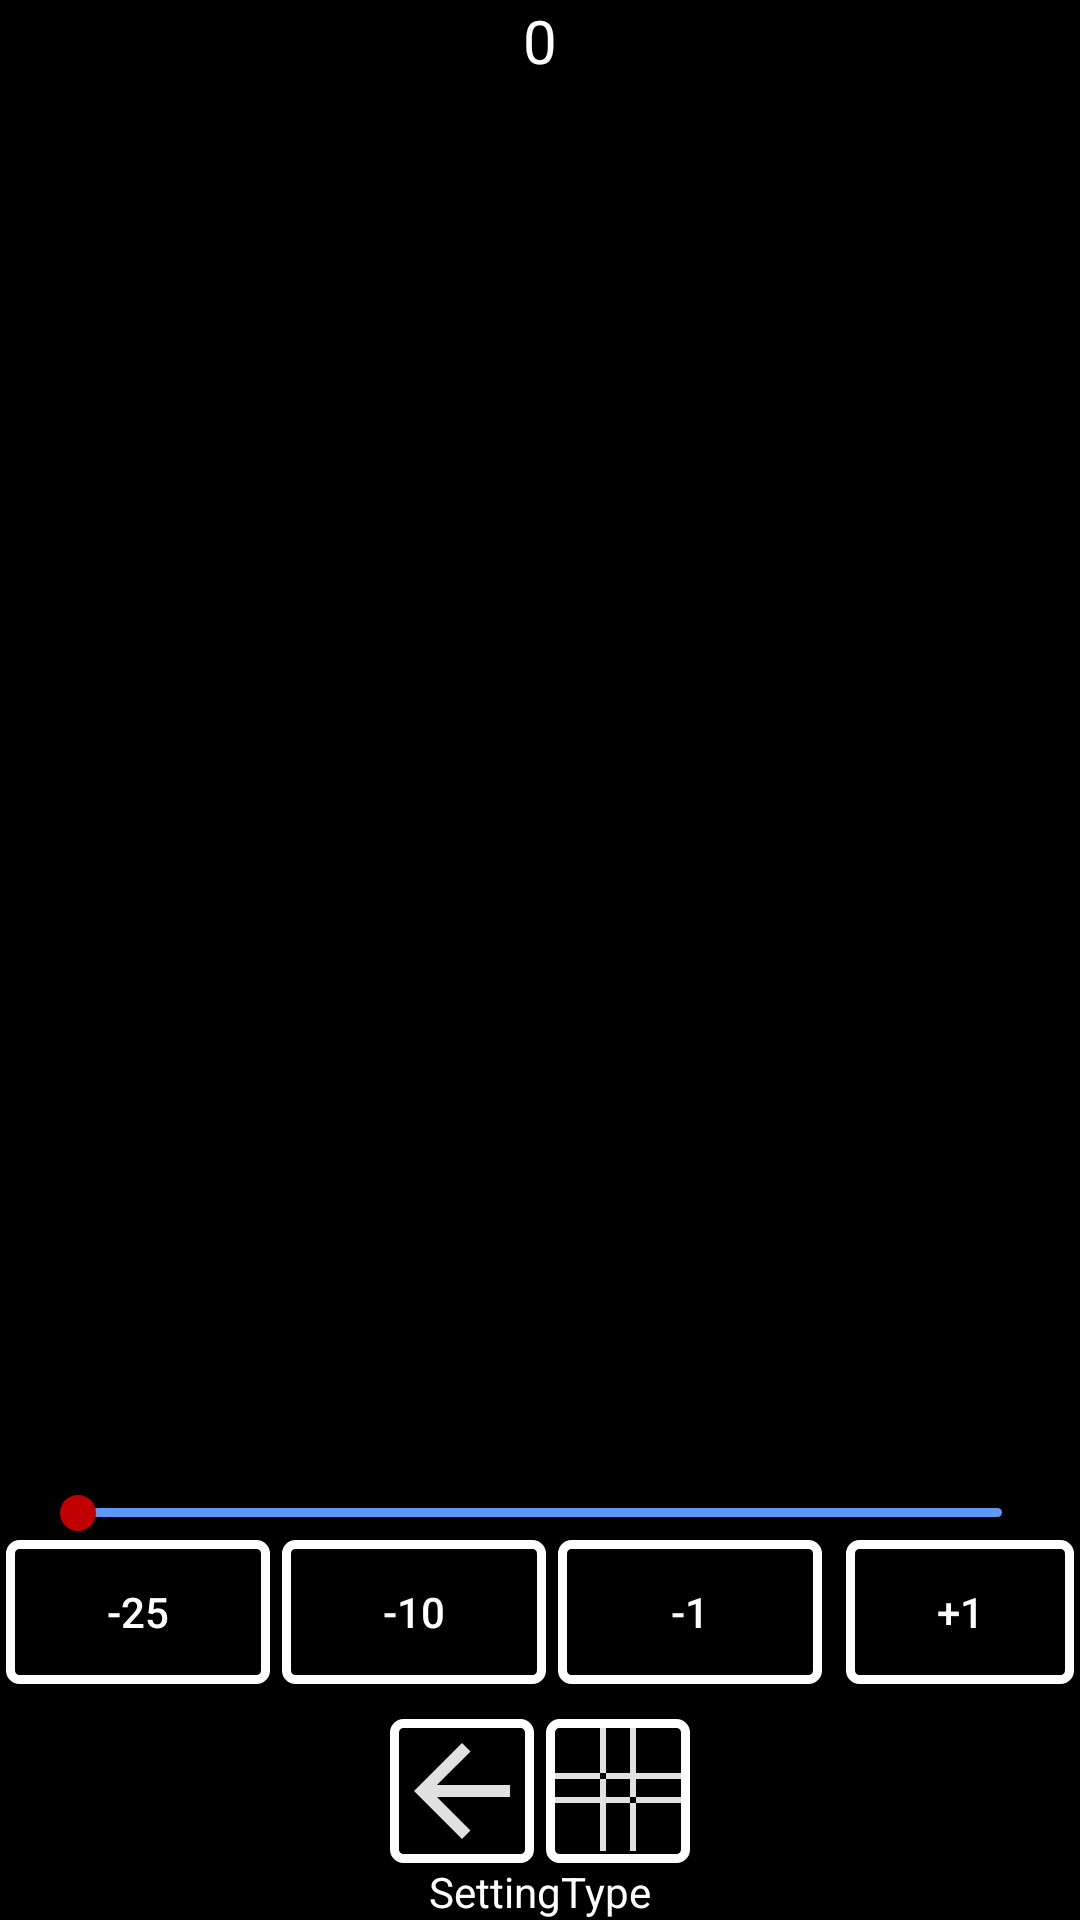

Screen size 1080px x 1920px. Icon name, then its center in pixels as [x,y]:
back: [462,1791]
grid: [618,1791]
